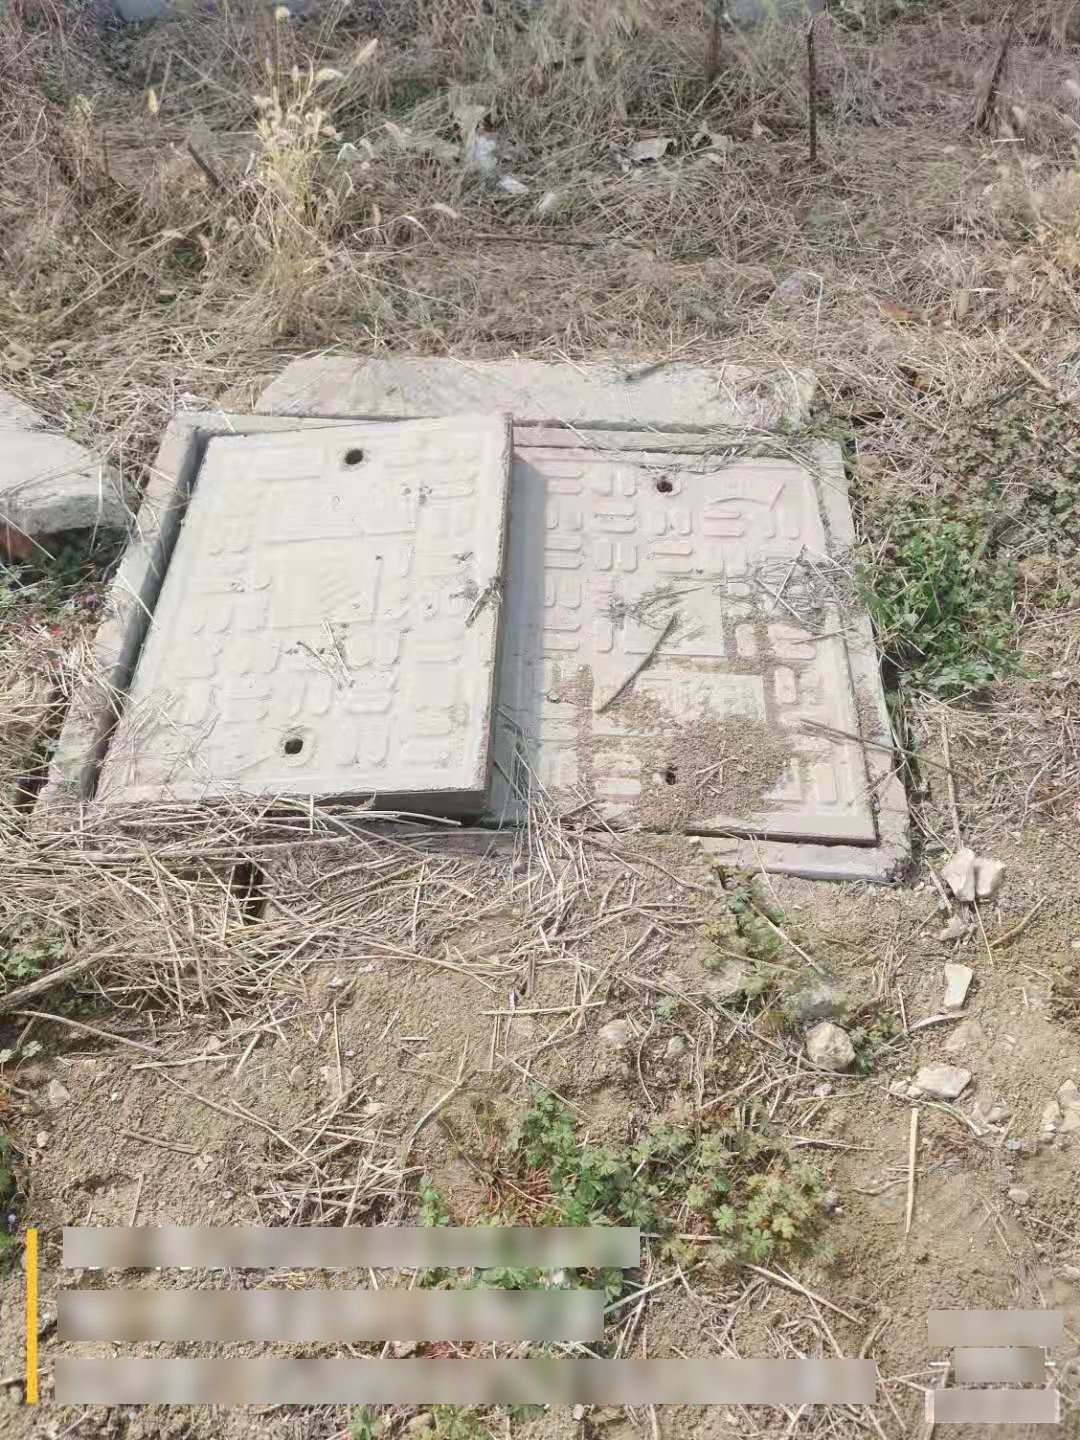uncovered: (20, 406, 911, 876)
